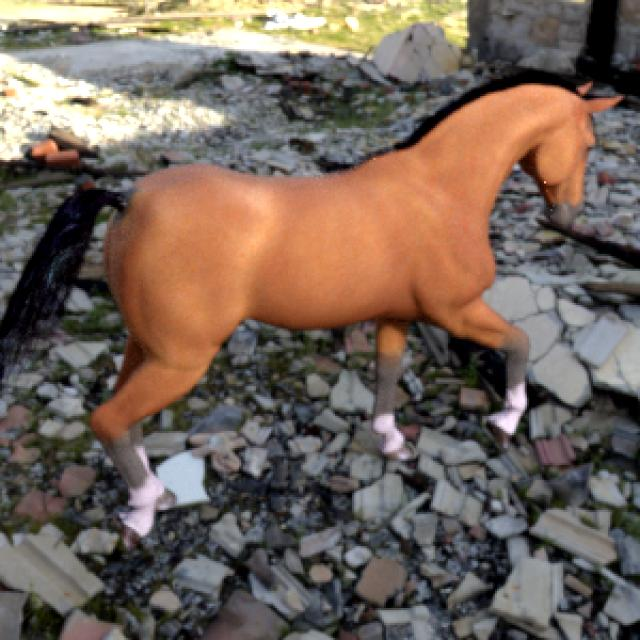horse: (0, 72, 620, 538)
